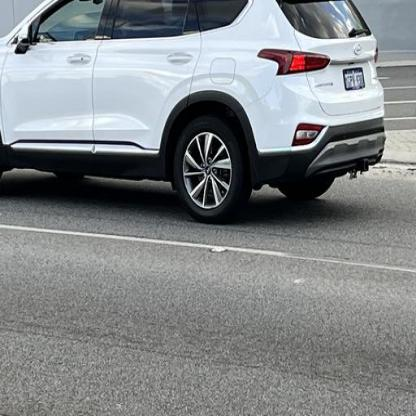Tire: (171, 118, 253, 226)
